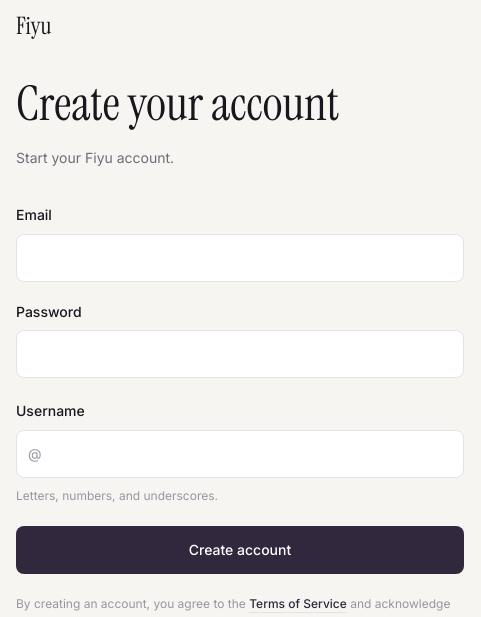
AuthPage connectivity failures › shows classified signup network_unreachable copy and preserves the form
Type "person@example.com" into the field labelled "Email".
click(240, 258); type("person@example.com")  # box x1=16 y1=234 x2=464 y2=282
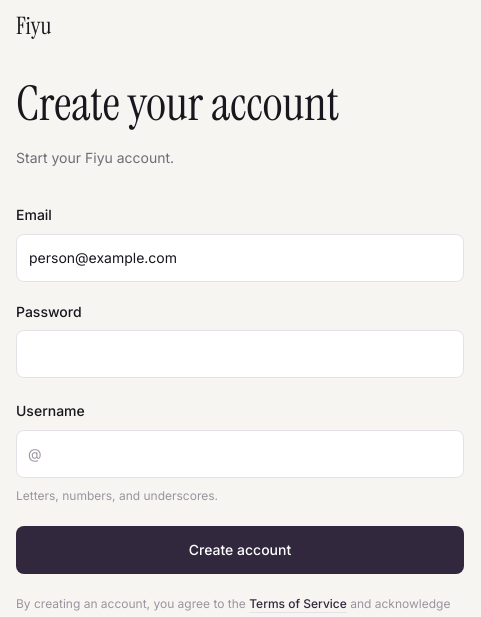
Type "secret-password" into the password field labelled "Password".
click(240, 354); type("secret-password")  # box x1=16 y1=330 x2=464 y2=378
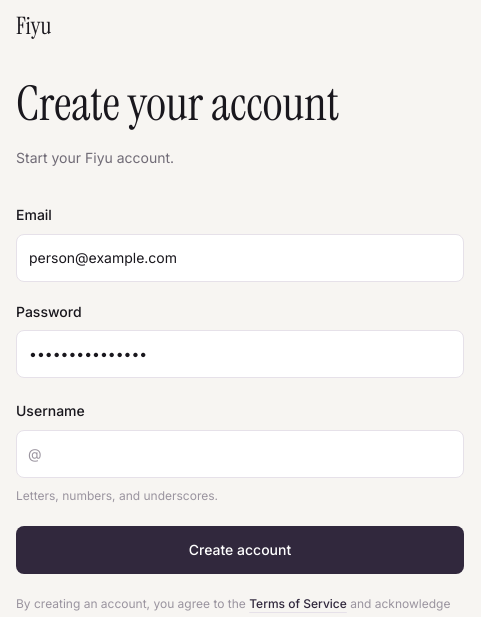
Type "person" into the field labelled "Username".
click(240, 454); type("person")  # box x1=16 y1=430 x2=464 y2=478
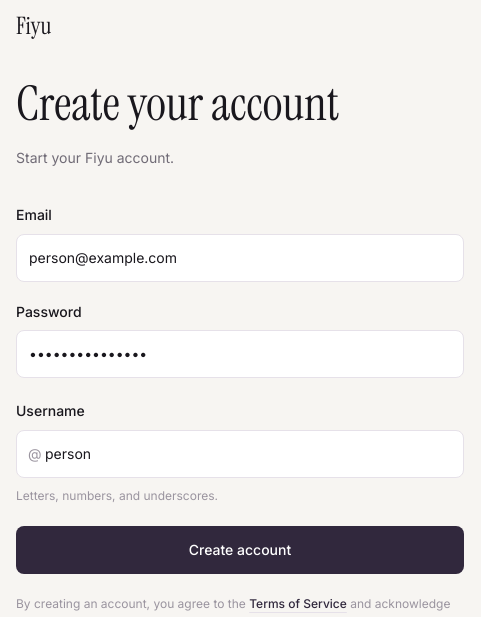
Click the button "Create account".
click(240, 550)  # box x1=16 y1=526 x2=464 y2=574
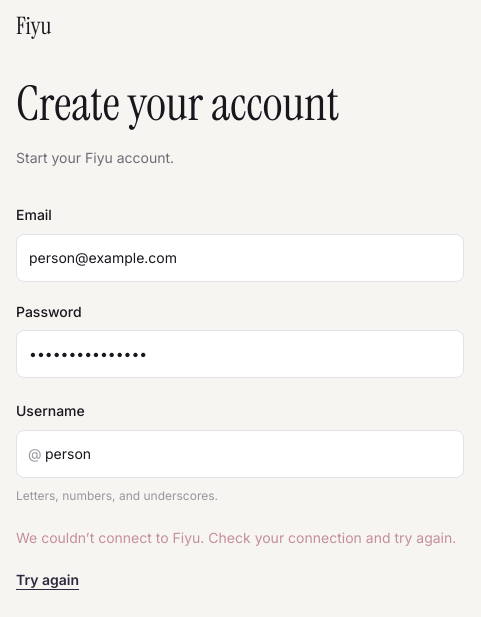
Expected: the message shows "We couldn’t connect to Fiyu", x1=16 y1=529 x2=456 y2=546
